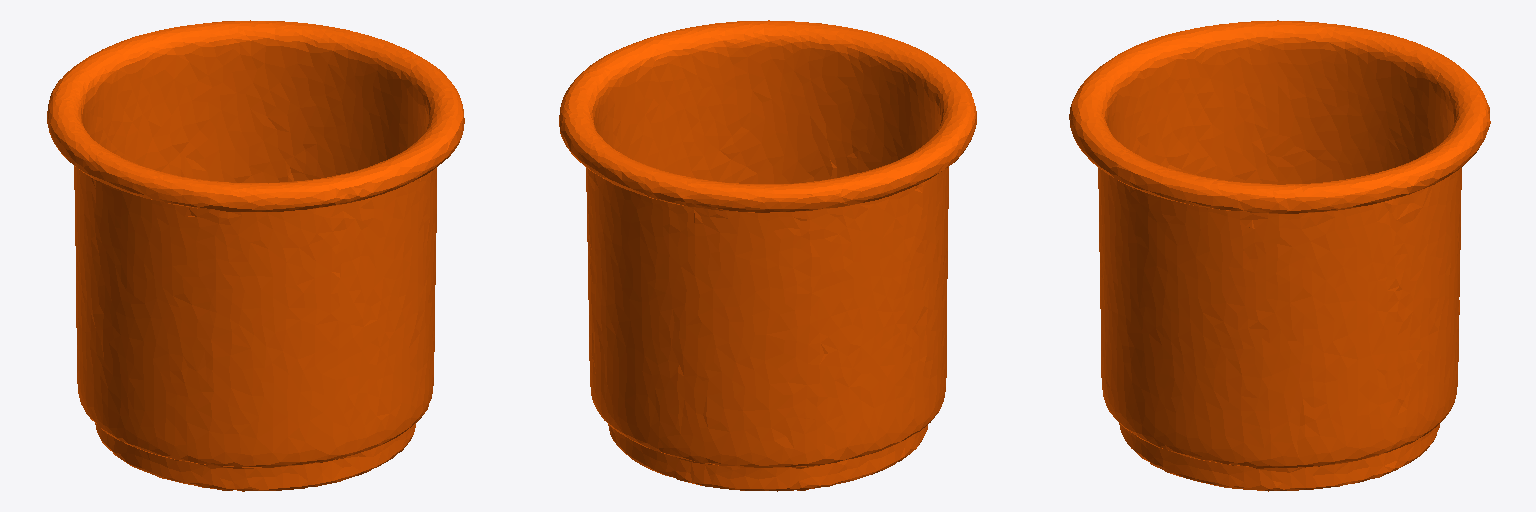
robot.urdf — 065-g_cups:
<?xml version="1.0" ?>
<robot name="065-g_cups">
   <material name="obj_color">
      <color rgba="1.0 0.423529411765 0.0392156862745 1.0"/>
   </material>
   <link name="top">
      <inertial>
         <origin rpy="0.000102669197266802 0.0001041984406377576 0.0001107483312948711" xyz="-0.0007550879958634496 7.325931346062582e-05 0.001461892797080662"/>
         <mass value="0.0887121195997026"/>
         <inertia ixx="0.0001033897491501499" ixy="-5.064295279648641e-07" ixz="-2.147345123028073e-06" iyy="0.0001041581333408037" iyz="4.45071580507564e-07" izz="0.000110068086708477"/>
      </inertial>
      <visual>
         <origin rpy="0 0 0" xyz="0 0 0"/>
         <geometry>
            <mesh filename="top_watertight_tiny.stl" scale="1 1 1"/>
         </geometry>
         <material name="obj_color"/>
      </visual>
      <collision>
         <origin rpy="0 0 0" xyz="0 0 0"/>
         <geometry>
            <mesh filename="top_watertight_tiny.obj" scale="1 1 1"/>
         </geometry>
      </collision>
   </link>
   <link name="bottom">
      <inertial>
         <origin rpy="1.633333333199431e-08 1.633333333199431e-08 1.633333333362855e-08" xyz="0.3464080000000008 0.3464080000000008 0.3464080000000008"/>
         <mass value="0.0009800000000000017"/>
         <inertia ixx="1.633333333253906e-08" ixy="5.447480642029219e-19" ixz="5.447480642029219e-19" iyy="1.633333333253906e-08" iyz="5.447480642029219e-19" izz="1.633333333253906e-08"/>
      </inertial>
      <visual>
         <origin rpy="0 0 0" xyz="0 0 0"/>
         <geometry>
            <mesh filename="bottom_watertight_tiny.stl" scale="1 1 1"/>
         </geometry>
         <material name="obj_color"/>
      </visual>
   </link>
   <joint name="rotation" type="revolute">
      <origin xyz="0 0 0"/>
      <axis xyz="0 0 -1"/>
      <parent link="bottom"/>
      <child link="top"/>
      <dynamics damping="1.0" friction="1.0"/>
      <limit effort="0.1" velocity="0.1" lower="0" upper="0.001"/>
   </joint>
</robot>

--- Render facts (derived) ---
3 views of the same robot in one strip: view 1: azimuth 30°, elevation 25°; view 2: azimuth 150°, elevation 25°; view 3: azimuth 270°, elevation 25° (orthographic).
Model 065-g_cups with 2 links and 1 joints (1 revolute), rooted at bottom, posed all joints at 0.
Links seen in each view (by area): view 1: top; view 2: top; view 3: top.
Link boxes in pixels (x1,y1,x2,y2): top: (47, 20, 464, 491); top: (559, 20, 976, 491); top: (1069, 20, 1490, 491).
Bounding box of the posed robot: 0.0868 × 0.0877 × 0.074 m (x, y, z).
1 mesh visuals loaded from 2 distinct referenced files (1 binary STL); not drawn: 1 (reference not matched to a file when rendering).
